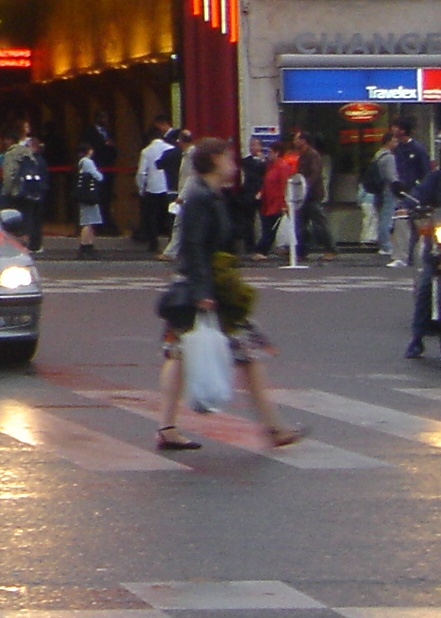person: (154, 135, 303, 460)
